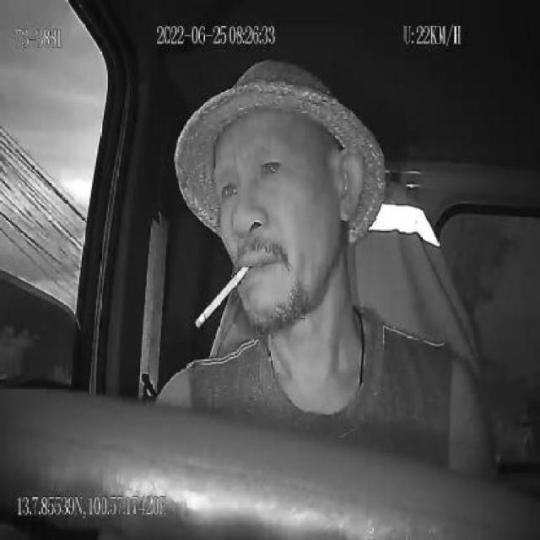smoking: (194, 262, 250, 329)
